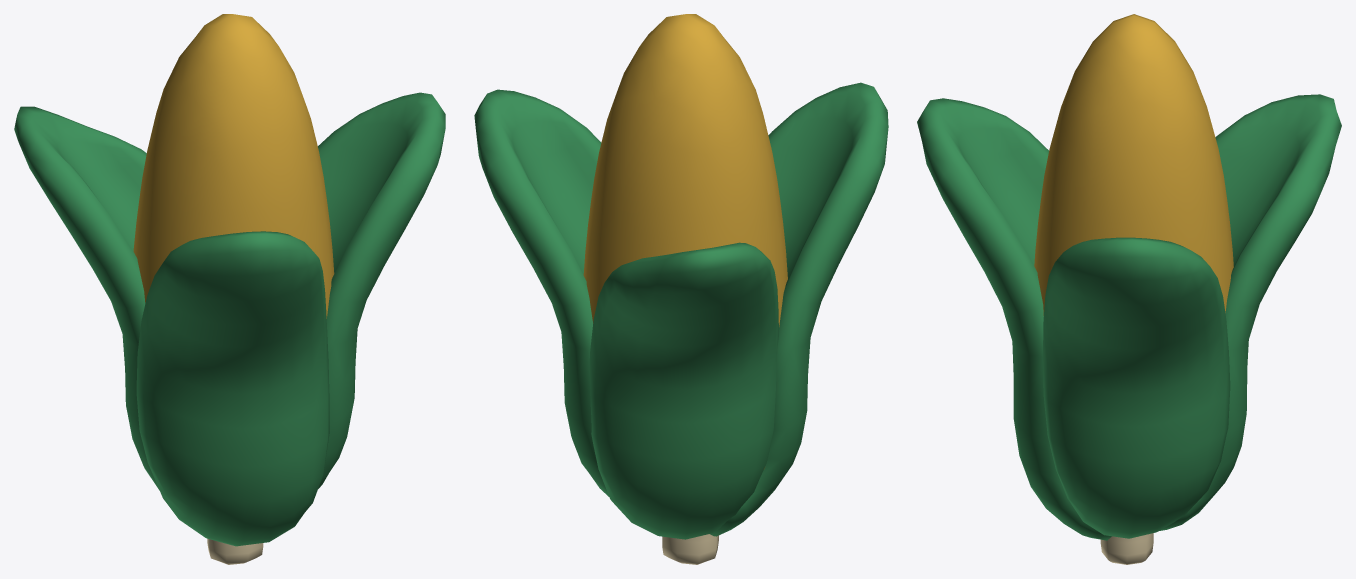
The model's file is Cornsimple_01.dae.
3 views of the same model, side by side, from view 1: azimuth 30°, elevation 25°; view 2: azimuth 150°, elevation 25°; view 3: azimuth 270°, elevation 25° (orthographic).
Visible parts, largest first — view 1: Cornsimple_01_LOD0; view 2: Cornsimple_01_LOD0; view 3: Cornsimple_01_LOD0.
Boxes of the visible parts, <box> form: Cornsimple_01_LOD0: <box>14,14,445,564</box>; Cornsimple_01_LOD0: <box>474,14,888,564</box>; Cornsimple_01_LOD0: <box>917,14,1341,564</box>.
Size of what is drawn, in the model's own units: 4.37 by 4.71 by 6.64.
